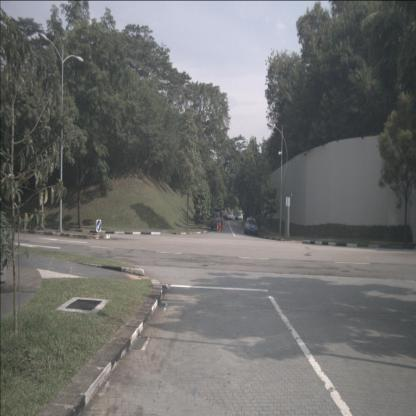movable_object-trafficcone: (222, 220, 225, 230)
vehicle-car: (244, 218, 258, 236), (216, 214, 224, 224), (228, 212, 236, 220)
vehicle-truck: (212, 208, 222, 227), (211, 212, 221, 230), (219, 209, 229, 221), (234, 210, 243, 222)
